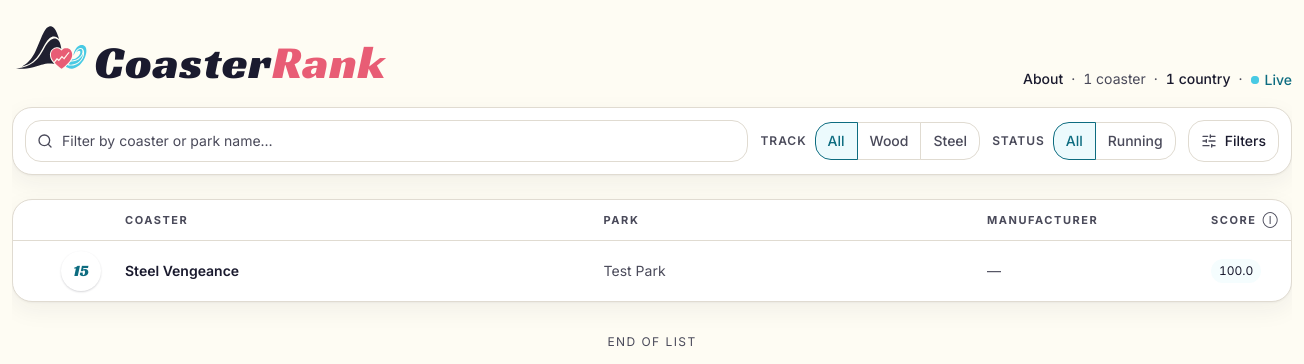
Test: BoardPage › shows a muted fallback in the popunder when no timestamp exists
The image size is (1304, 364).
Click the button "Live". click: {"x": 1271, "y": 80}
box: [1250,70,1292,90]
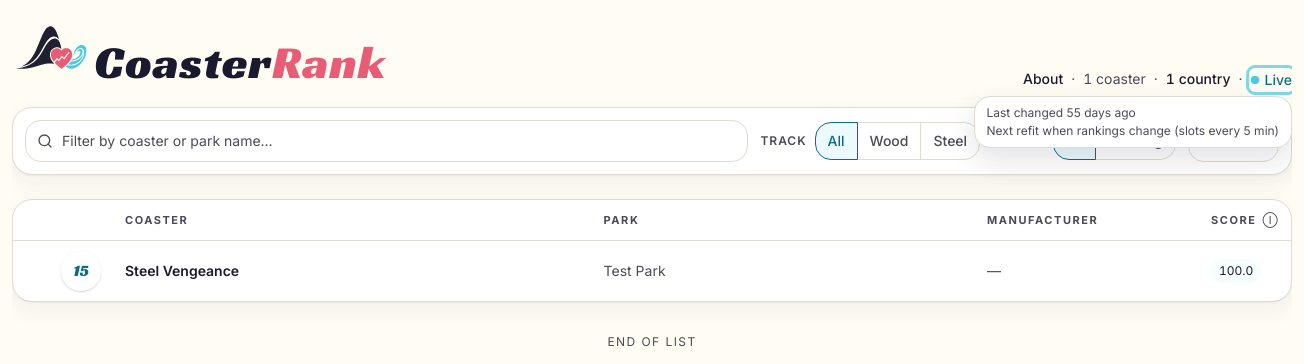
Check: the text "Last changed 55 days ago" is shown, box [986,105,1136,120]
